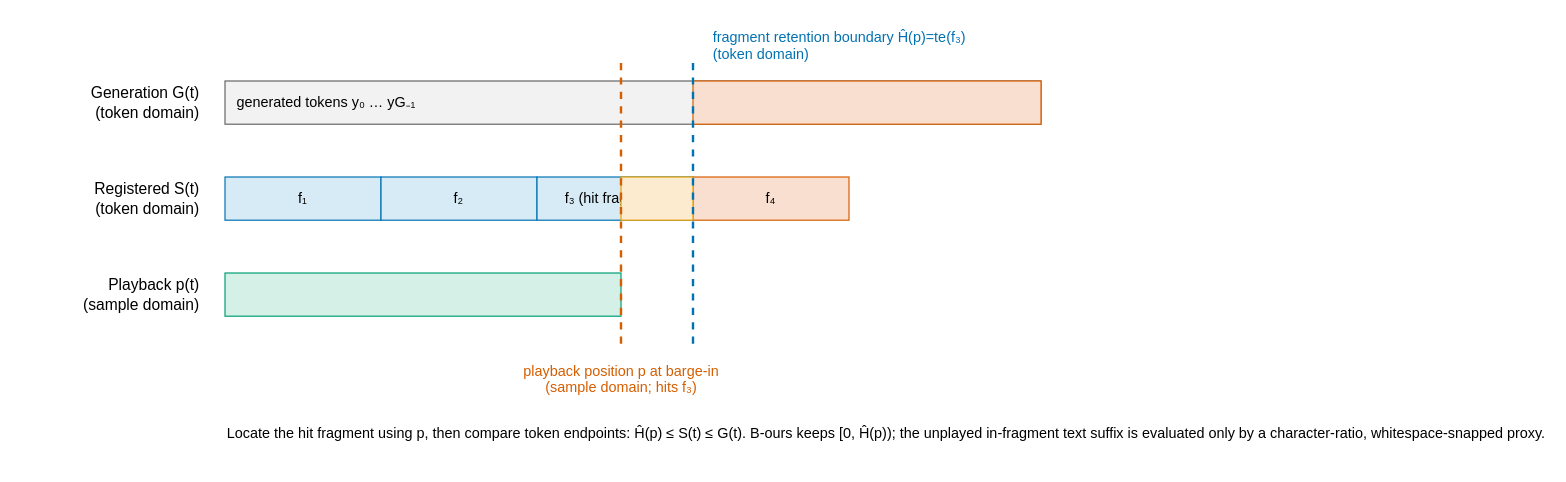
This 1566x482 diagram has some shape labels left out. Each missing label, with the centre of its shape:
"character ratio + whitespace proxy" belongs at (656,198).
"played samples [0, p)" belongs at (422,294).
"whole unplayed fragments (recurrence risk under B-gen)" belongs at (866,102).
